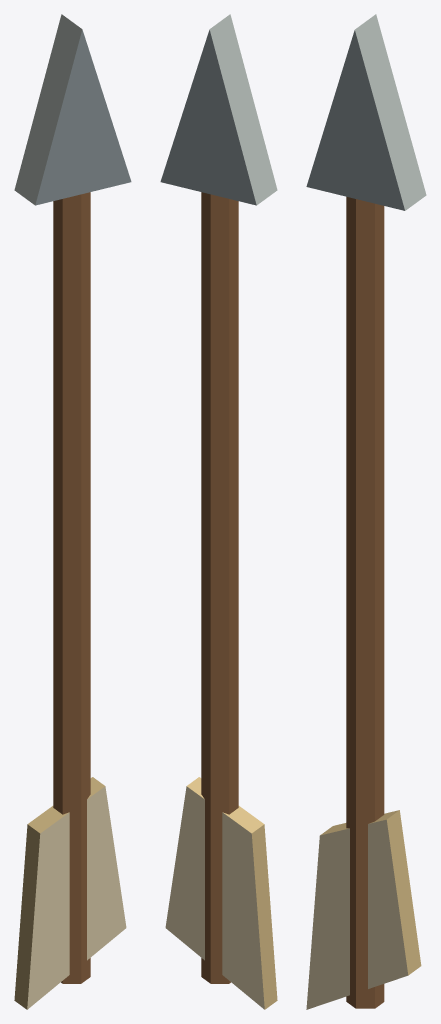
Rendered from arrow.glb.
3 renders of one model, left to right at view 1: azimuth 30°, elevation 25°; view 2: azimuth 150°, elevation 25°; view 3: azimuth 330°, elevation 25°, orthographic. The views are drawn at different scales.
Parts seen in each view (by area): view 1: arrow; view 2: arrow; view 3: arrow.
Part boxes in pixels (left/top/right/bottom): arrow: left=14, top=14, right=131, bottom=1009; arrow: left=160, top=14, right=277, bottom=1009; arrow: left=306, top=14, right=426, bottom=1009.
Bounding box in the file's own units: 0.1 × 0.925 × 0.036.
